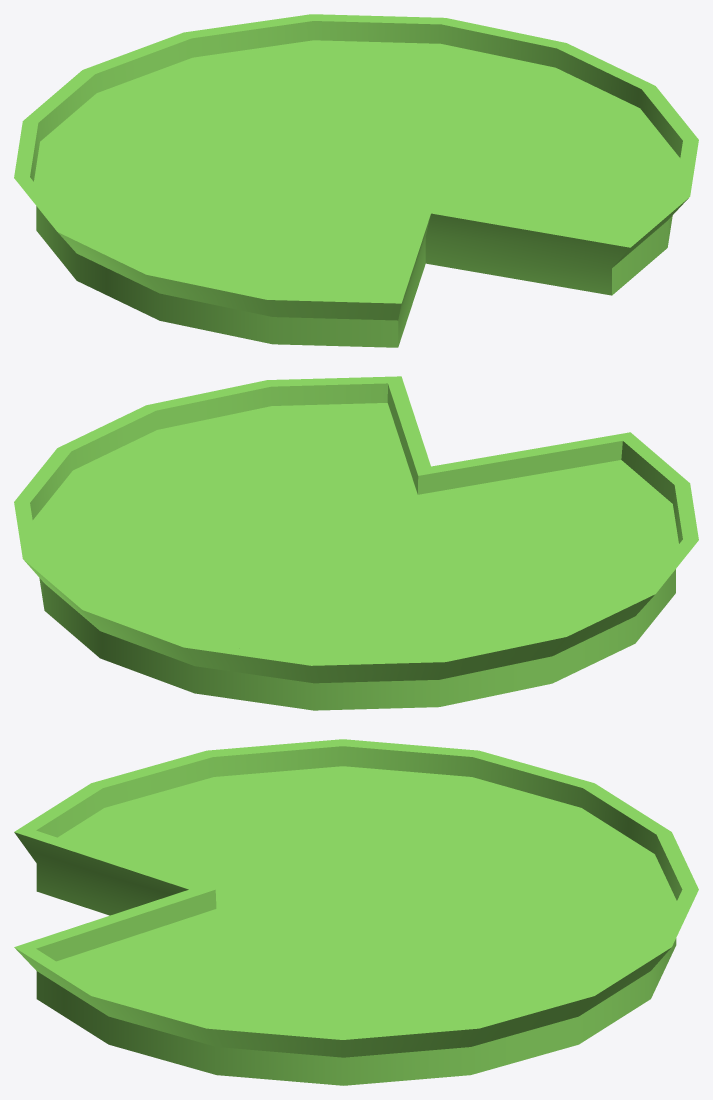
File: VitoriaRegia1.fbx
3 renders of one model, top to bottom at view 1: azimuth 30°, elevation 25°; view 2: azimuth 150°, elevation 25°; view 3: azimuth 270°, elevation 25°, orthographic. The views are drawn at different scales.
Parts seen in each view (by area): view 1: Circle.001; view 2: Circle.001; view 3: Circle.001.
Part boxes in pixels (left/top/right/bottom): Circle.001: left=14, top=14, right=698, bottom=347; Circle.001: left=14, top=376, right=698, bottom=710; Circle.001: left=14, top=739, right=698, bottom=1085.
Size of the model in its own units: 0.4821 by 0.0416 by 0.4638.
